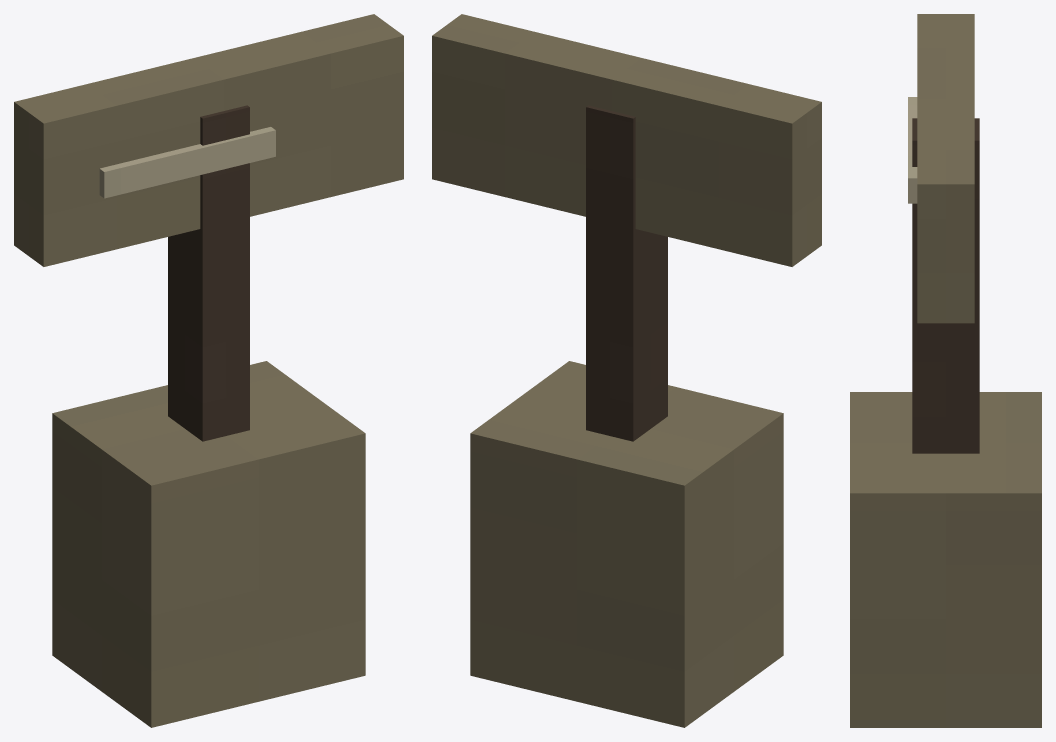
Rendered from camp.glb.
3 renders of one model, left to right at view 1: azimuth 30°, elevation 25°; view 2: azimuth 150°, elevation 25°; view 3: azimuth 270°, elevation 25°, orthographic. The views are drawn at different scales.
Visible parts, largest first — view 1: Housing; view 2: Housing; view 3: Housing.
Boxes of the visible parts, x1,y1,x2,y2 form: Housing: (14,14,403,727); Housing: (432,14,821,727); Housing: (850,14,1041,727).
Size of the model in its own units: 0.84 by 1.33 by 0.4.
3 materials, 3 textured.
